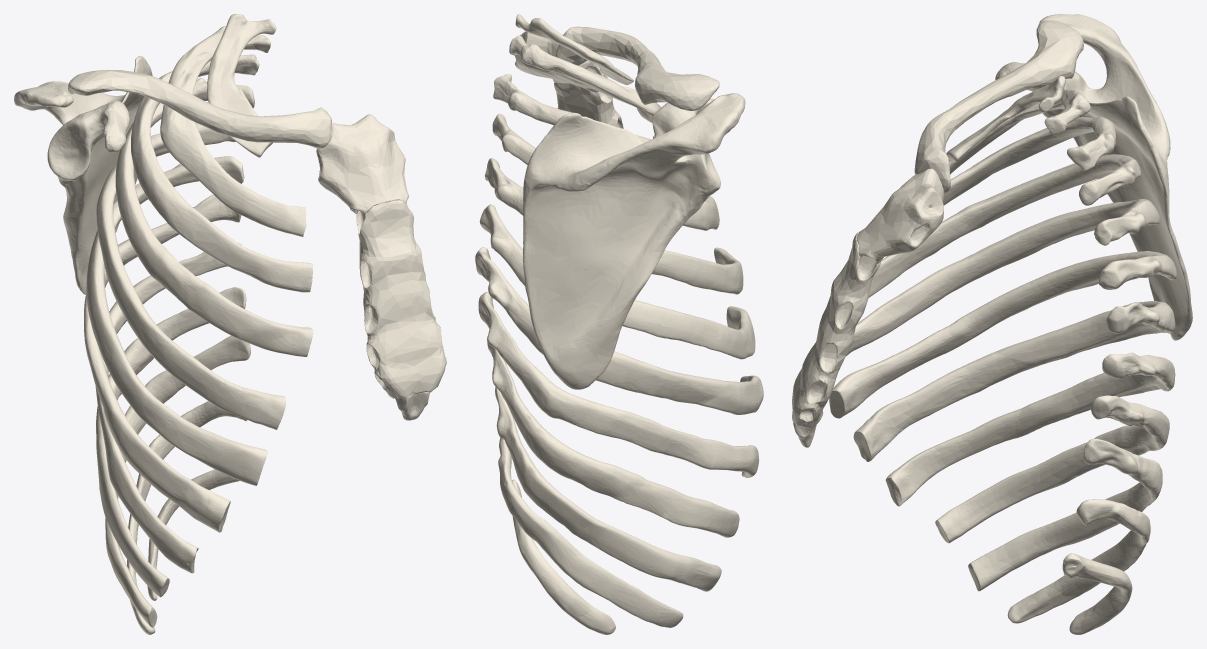
File: shoulder-girdle-bone.glb
3 views of the same model, side by side, from view 1: azimuth 30°, elevation 25°; view 2: azimuth 150°, elevation 25°; view 3: azimuth 270°, elevation 25° (orthographic). The views are drawn at different scales.
Visible parts, largest first — view 1: sternum__BP8989, scapula__BP9101, ribs__BP8881, ribs__BP9092, ribs__BP8792, ribs__BP8969, ribs__BP8211, ribs__BP9279, clavicle__BP9271, sternum__BP8562, ribs__BP9073, ribs__BP9181 (+5 smaller); view 2: scapula__BP9101, ribs__BP9073, ribs__BP9181, ribs__BP8407, ribs__BP8211, ribs__BP8951, ribs__BP8881, clavicle__BP9271, ribs__BP8792, ribs__BP9236, ribs__BP9279, sternum__BP8989 (+4 smaller); view 3: scapula__BP9101, ribs__BP8211, ribs__BP8881, ribs__BP8792, ribs__BP9073, ribs__BP9181, ribs__BP9092, ribs__BP8407, clavicle__BP9271, sternum__BP8989, sternum__BP8562, ribs__BP8951 (+4 smaller).
Part boxes in pixels (x1,y1,x2,y2): sternum__BP8989: (356,200,446,398); scapula__BP9101: (14,56,152,294); ribs__BP8881: (86,156,267,485); ribs__BP9092: (115,78,313,356); ribs__BP8792: (96,122,285,429); ribs__BP8969: (131,54,312,292); ribs__BP8211: (84,194,241,532); ribs__BP9279: (160,26,306,236); clavicle__BP9271: (67,70,331,148); sternum__BP8562: (316,114,408,214); ribs__BP9073: (95,243,241,573); ribs__BP9181: (96,287,246,597); scapula__BP9101: (522,93,745,389); ribs__BP9073: (478,292,759,477); ribs__BP9181: (487,336,739,537); ribs__BP8407: (495,386,721,591); ribs__BP8211: (475,247,763,414); ribs__BP8951: (498,438,683,627); ribs__BP8881: (479,204,755,359); clavicle__BP9271: (555,26,719,110); ribs__BP8792: (485,158,743,294); ribs__BP9236: (512,479,615,634); ribs__BP9279: (509,35,661,123); sternum__BP8989: (554,82,623,128); scapula__BP9101: (995,14,1192,340); ribs__BP8211: (853,301,1175,461); ribs__BP8881: (829,251,1176,418); ribs__BP8792: (846,199,1160,355); ribs__BP9073: (885,352,1175,506); ribs__BP9181: (935,395,1169,543); ribs__BP9092: (868,154,1140,297); ribs__BP8407: (968,438,1162,591); clavicle__BP9271: (914,20,1083,193); sternum__BP8989: (792,232,880,428); sternum__BP8562: (856,168,943,263); ribs__BP8951: (1007,499,1150,623).
Bounding box in the file's own units: 1.94 × 3.62 × 2.19.
